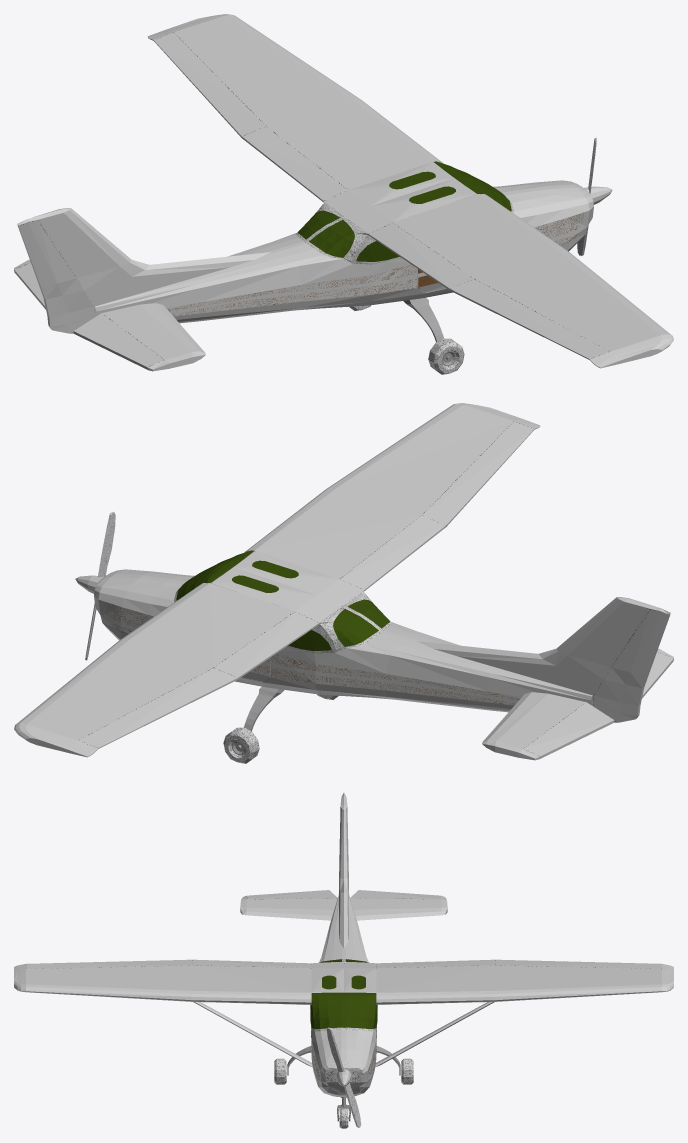
The picture shows the model from 3 angles, top to bottom: view 1: azimuth 30°, elevation 25°; view 2: azimuth 150°, elevation 25°; view 3: azimuth 270°, elevation 25°; orthographic projection. The views are drawn at different scales.
Visible parts, largest first — view 1: mesh34.001_mesh34-geometry, mesh43.001_mesh43-geometry, mesh36.001_mesh36-geometry, mesh35.001_mesh35-geometry, mesh50.001_mesh50-geometry, mesh45.001_mesh45-geometry, mesh47.001_mesh47-geometry, mesh46.001_mesh46-geometry, mesh37.001_mesh37-geometry, mesh51.001_mesh51-geometry, mesh12.001_mesh12-geometry, mesh11.001_mesh11-geometry (+5 smaller); view 2: mesh34.001_mesh34-geometry, mesh36.001_mesh36-geometry, mesh43.001_mesh43-geometry, mesh35.001_mesh35-geometry, mesh49.001_mesh49-geometry, mesh47.001_mesh47-geometry, mesh45.001_mesh45-geometry, mesh37.001_mesh37-geometry, mesh46.001_mesh46-geometry, mesh48.001_mesh48-geometry, mesh13.001_mesh13-geometry, mesh11.001_mesh11-geometry (+6 smaller); view 3: mesh43.001_mesh43-geometry, mesh36.001_mesh36-geometry, mesh34.001_mesh34-geometry, mesh11.001_mesh11-geometry, mesh50.001_mesh50-geometry, mesh49.001_mesh49-geometry, mesh35.001_mesh35-geometry, mesh47.001_mesh47-geometry, mesh45.001_mesh45-geometry, mesh1.001_mesh1-geometry, mesh46.001_mesh46-geometry, mesh37.001_mesh37-geometry (+4 smaller).
Boxes of the visible parts, <box> form: mesh34.001_mesh34-geometry: <box>18,162,589,333</box>; mesh43.001_mesh43-geometry: <box>147,14,443,189</box>; mesh36.001_mesh36-geometry: <box>393,194,673,368</box>; mesh35.001_mesh35-geometry: <box>17,208,271,306</box>; mesh50.001_mesh50-geometry: <box>102,303,205,371</box>; mesh45.001_mesh45-geometry: <box>153,33,265,137</box>; mesh47.001_mesh47-geometry: <box>450,279,608,359</box>; mesh46.001_mesh46-geometry: <box>242,127,346,201</box>; mesh37.001_mesh37-geometry: <box>368,223,473,290</box>; mesh51.001_mesh51-geometry: <box>73,313,163,369</box>; mesh12.001_mesh12-geometry: <box>309,220,354,257</box>; mesh11.001_mesh11-geometry: <box>434,161,511,211</box>; mesh34.001_mesh34-geometry: <box>98,551,669,722</box>; mesh36.001_mesh36-geometry: <box>244,403,540,578</box>; mesh43.001_mesh43-geometry: <box>14,583,294,757</box>; mesh35.001_mesh35-geometry: <box>416,597,670,695</box>; mesh49.001_mesh49-geometry: <box>482,692,585,760</box>; mesh47.001_mesh47-geometry: <box>422,422,534,526</box>; mesh45.001_mesh45-geometry: <box>79,668,237,748</box>; mesh37.001_mesh37-geometry: <box>341,516,445,590</box>; mesh46.001_mesh46-geometry: <box>214,612,319,679</box>; mesh48.001_mesh48-geometry: <box>524,702,614,758</box>; mesh13.001_mesh13-geometry: <box>333,609,378,646</box>; mesh11.001_mesh11-geometry: <box>176,550,253,600</box>; mesh43.001_mesh43-geometry: <box>376,964,673,1004</box>; mesh36.001_mesh36-geometry: <box>14,964,311,1004</box>; mesh34.001_mesh34-geometry: <box>310,894,377,1096</box>; mesh11.001_mesh11-geometry: <box>310,992,377,1028</box>; mesh50.001_mesh50-geometry: <box>240,895,337,920</box>; mesh49.001_mesh49-geometry: <box>350,895,447,920</box>; mesh35.001_mesh35-geometry: <box>339,793,348,948</box>; mesh47.001_mesh47-geometry: <box>26,959,191,968</box>; mesh45.001_mesh45-geometry: <box>496,959,661,968</box>; mesh1.001_mesh1-geometry: <box>320,1062,367,1095</box>; mesh46.001_mesh46-geometry: <box>377,959,495,967</box>; mesh37.001_mesh37-geometry: <box>192,959,310,967</box>.
Bounding box in the file's own units: 0.5921 × 0.2033 × 0.7798.
